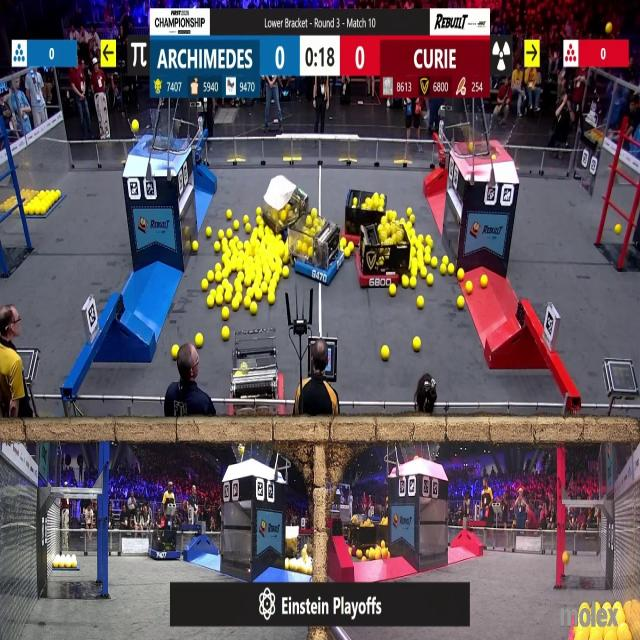ball_airborne: (133, 118, 140, 130), (467, 143, 473, 152)
ball_ground: (172, 346, 180, 360), (382, 346, 389, 361), (194, 335, 202, 348), (414, 338, 421, 352), (250, 303, 258, 315), (465, 281, 472, 294), (221, 327, 228, 340), (202, 280, 210, 291), (426, 275, 434, 286), (215, 294, 223, 305), (269, 292, 276, 304), (458, 270, 465, 282), (389, 284, 396, 296), (221, 308, 228, 320), (223, 291, 230, 303), (254, 290, 262, 300), (242, 278, 250, 288), (418, 295, 424, 308), (458, 295, 464, 308), (411, 277, 418, 288), (208, 296, 215, 307), (233, 301, 240, 312), (244, 297, 251, 308), (236, 282, 243, 293), (482, 276, 488, 288), (402, 276, 408, 288), (605, 24, 611, 36), (273, 273, 281, 282), (225, 230, 232, 240), (441, 266, 448, 276), (420, 268, 427, 278), (411, 268, 418, 278), (221, 270, 228, 280), (562, 553, 568, 564), (214, 242, 220, 253), (218, 231, 225, 240), (245, 223, 252, 232), (246, 287, 253, 296), (244, 241, 251, 250), (616, 224, 622, 234), (283, 268, 289, 278), (208, 272, 214, 282), (191, 242, 197, 252), (448, 266, 454, 276), (431, 256, 437, 266), (234, 220, 240, 230), (215, 272, 221, 282), (345, 248, 351, 258), (282, 254, 288, 264), (426, 237, 432, 247), (264, 283, 270, 293), (284, 560, 290, 570), (25, 205, 31, 215), (272, 263, 278, 273), (444, 255, 450, 264), (206, 229, 212, 238), (418, 235, 424, 244), (238, 272, 244, 281), (226, 210, 231, 220), (424, 255, 430, 263), (215, 264, 221, 272), (348, 242, 354, 250), (222, 279, 228, 287), (341, 240, 347, 248), (256, 216, 261, 225), (411, 215, 416, 224), (244, 215, 250, 222), (256, 208, 261, 216), (408, 208, 413, 216), (357, 552, 362, 560)
goal: (462, 119, 518, 159), (131, 117, 188, 153)
robot_blue: (288, 212, 344, 284), (265, 179, 310, 235), (343, 518, 378, 554), (148, 529, 184, 559)
robot_red: (229, 332, 284, 416), (358, 214, 411, 288)
